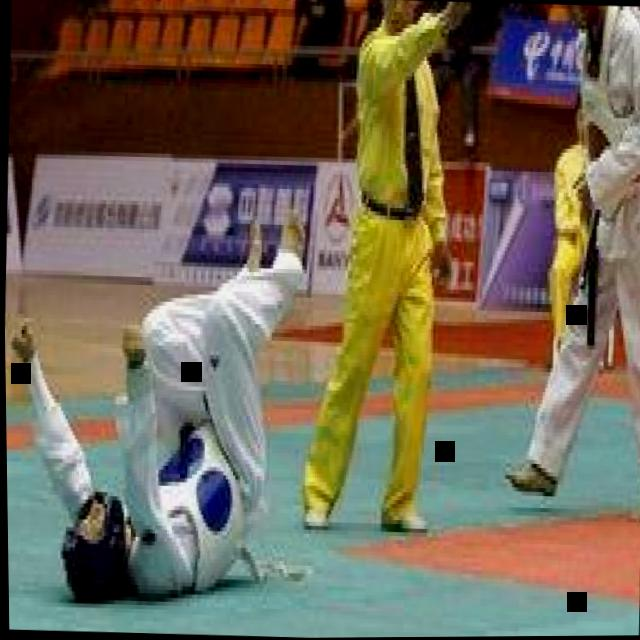Fall-Detected: (2, 179, 314, 611)
